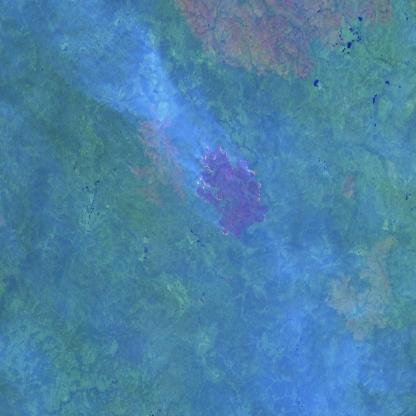fire: (194, 140, 274, 238)
